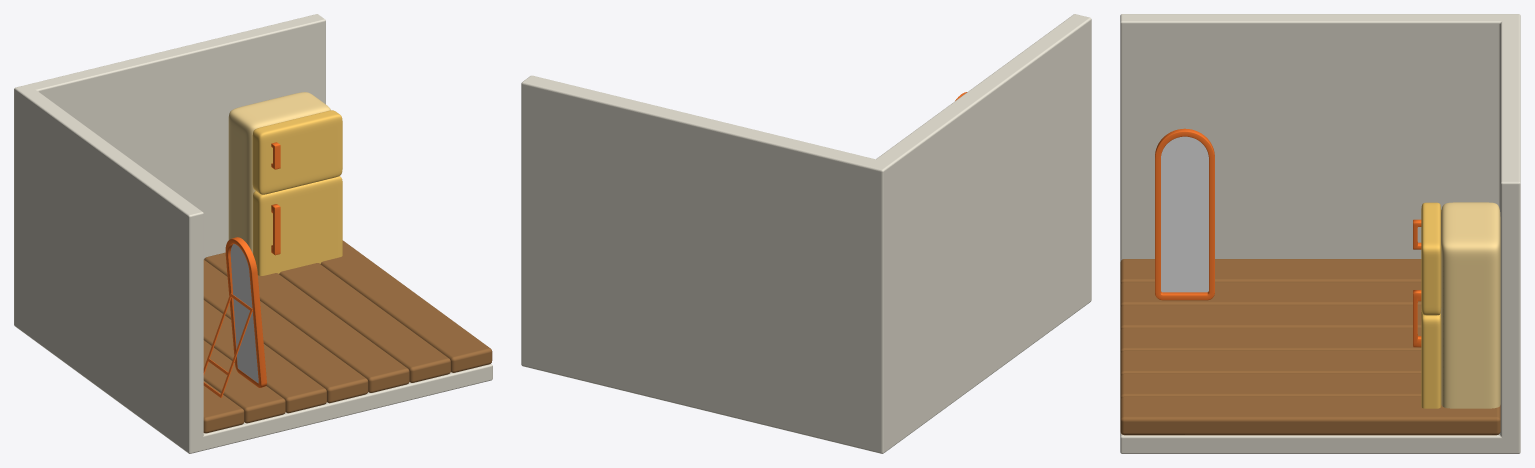
Rendered from toggleme_room.glb.
The picture shows the model from 3 angles, left to right: view 1: azimuth 30°, elevation 25°; view 2: azimuth 150°, elevation 25°; view 3: azimuth 270°, elevation 25°; orthographic projection. The views are drawn at different scales.
Parts seen in each view (by area): view 1: wall, floor, door_large, door_small, body, mirror, frame, stand; view 2: wall; view 3: wall, floor, body, mirror, frame, door_small, door_large.
Boxes of the visible parts, box(x1,y1,x2,y2) form: wall: box(14, 14, 492, 453); floor: box(203, 240, 492, 433); door_large: box(253, 176, 342, 275); door_small: box(252, 110, 342, 194); body: box(228, 92, 330, 253); mirror: box(230, 244, 258, 383); frame: box(225, 237, 266, 387); stand: box(203, 293, 252, 397); wall: box(521, 14, 1091, 453); wall: box(1120, 14, 1520, 453); floor: box(1120, 259, 1500, 435); body: box(1440, 202, 1500, 408); mirror: box(1161, 136, 1208, 292); frame: box(1155, 128, 1214, 300); door_small: box(1421, 202, 1441, 315); door_large: box(1421, 310, 1441, 408).
Bounding box in the file's own units: 4 × 3 × 4.
